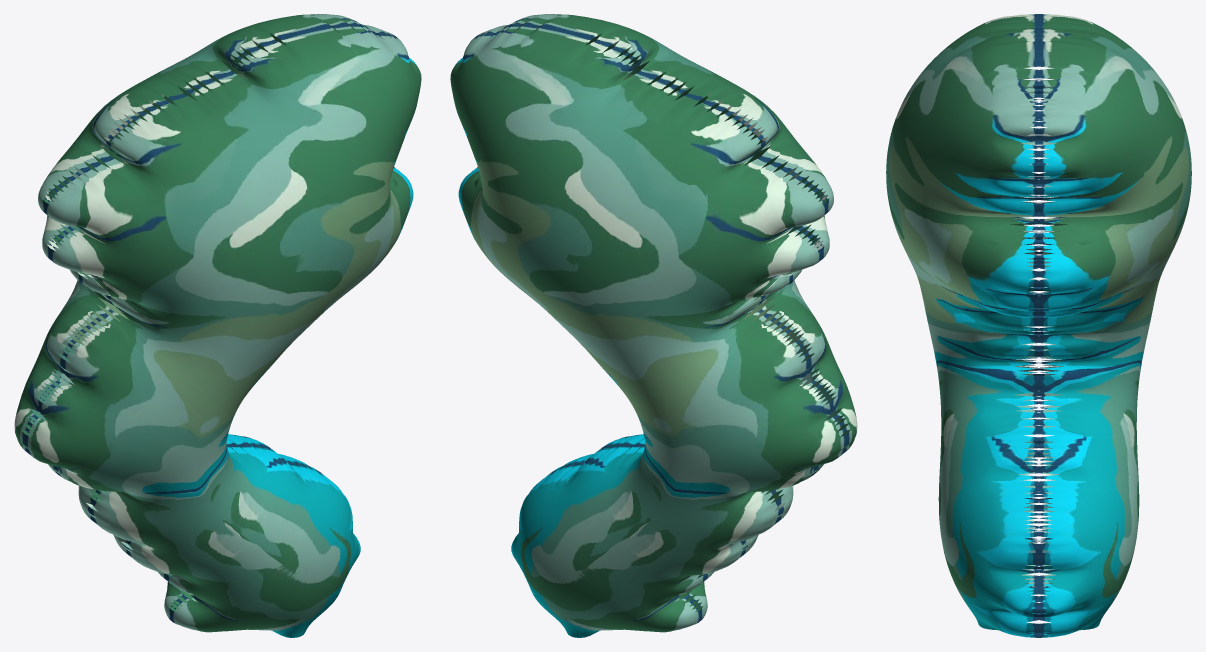
File: teal_bank.glb
The picture shows the model from 3 angles, left to right: view 1: azimuth 30°, elevation 25°; view 2: azimuth 150°, elevation 25°; view 3: azimuth 270°, elevation 25°; orthographic projection. The views are drawn at different scales.
Parts seen in each view (by area): view 1: teal_bank; view 2: teal_bank; view 3: teal_bank.
Boxes of the visible parts, <box> form: teal_bank: <box>14,14,421,637</box>; teal_bank: <box>450,14,857,637</box>; teal_bank: <box>886,14,1191,637</box>.
Bounding box in the file's own units: 0.9844 × 1.4 × 0.6576.
Materials: 1 (1 with a texture image).
